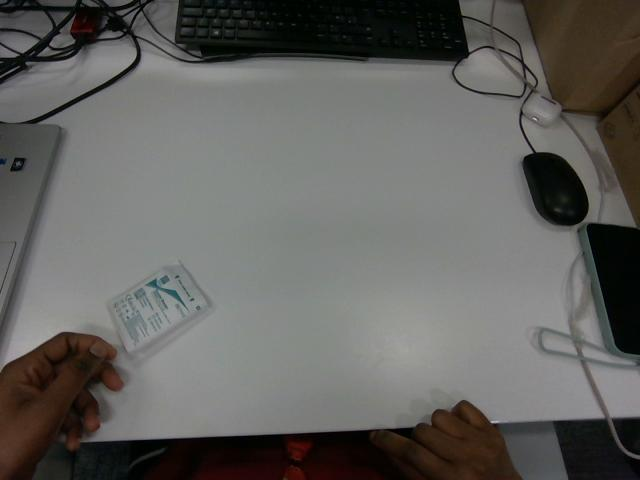gauze: (108, 263, 209, 352)
